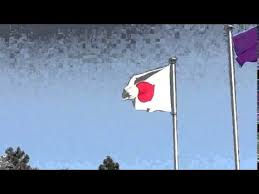Japanese Flag: (118, 62, 179, 115)
